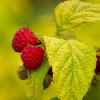Raspberry leaf: (42, 34, 97, 99), (53, 2, 99, 34)
